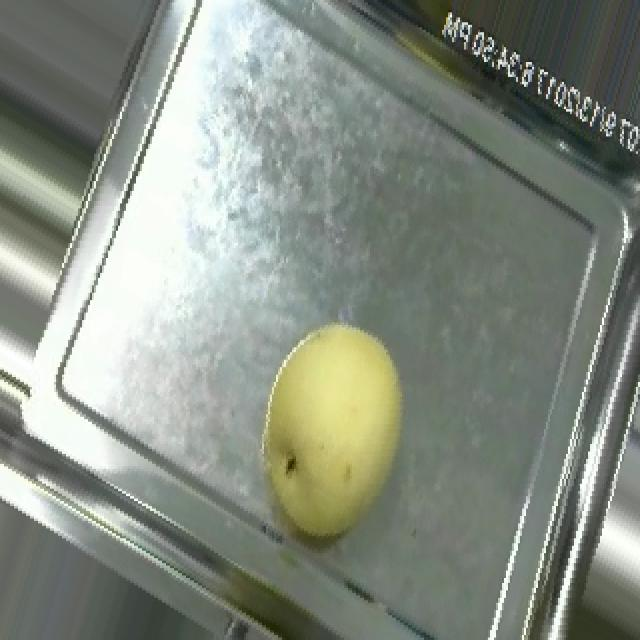Fruit: (222, 295, 442, 566)
